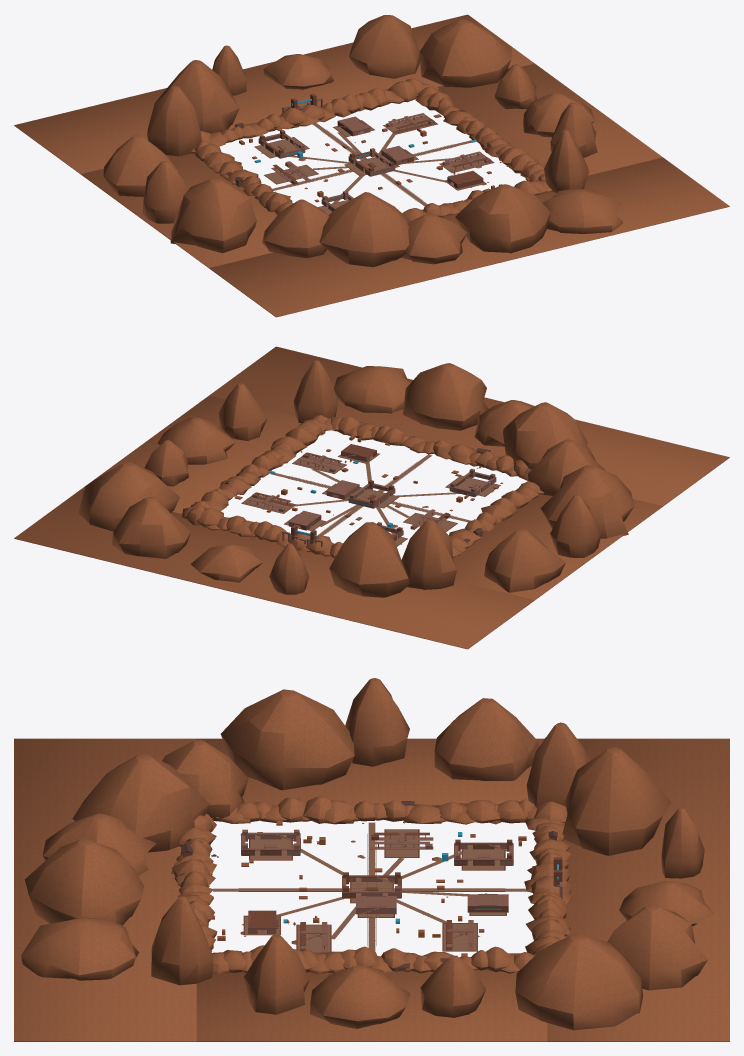
Rendered from kyokoku-lod1.glb.
3 views of the same model, one above another, from view 1: azimuth 30°, elevation 25°; view 2: azimuth 150°, elevation 25°; view 3: azimuth 270°, elevation 25° (orthographic). The views are drawn at different scales.
Visible parts, largest first — view 1: HB_kyokoku_LOD1_terrain, HB_kyokoku_LOD1_road, HB_kyokoku_LOD1_wall, HB_kyokoku_LOD1_wall_alt, HB_kyokoku_LOD1_obstacle; view 2: HB_kyokoku_LOD1_terrain, HB_kyokoku_LOD1_road, HB_kyokoku_LOD1_wall, HB_kyokoku_LOD1_wall_alt, HB_kyokoku_LOD1_obstacle; view 3: HB_kyokoku_LOD1_terrain, HB_kyokoku_LOD1_road, HB_kyokoku_LOD1_wall, HB_kyokoku_LOD1_wall_alt, HB_kyokoku_LOD1_obstacle.
Boxes of the visible parts, left/top/right/bottom form: HB_kyokoku_LOD1_terrain: left=14, top=14, right=729, bottom=317; HB_kyokoku_LOD1_road: left=255, top=115, right=493, bottom=214; HB_kyokoku_LOD1_wall: left=258, top=97, right=491, bottom=211; HB_kyokoku_LOD1_wall_alt: left=228, top=93, right=494, bottom=214; HB_kyokoku_LOD1_obstacle: left=239, top=114, right=529, bottom=215; HB_kyokoku_LOD1_terrain: left=14, top=346, right=729, bottom=649; HB_kyokoku_LOD1_road: left=241, top=453, right=500, bottom=546; HB_kyokoku_LOD1_wall: left=244, top=445, right=496, bottom=546; HB_kyokoku_LOD1_wall_alt: left=225, top=444, right=500, bottom=546; HB_kyokoku_LOD1_obstacle: left=234, top=431, right=503, bottom=525; HB_kyokoku_LOD1_terrain: left=14, top=678, right=729, bottom=1041; HB_kyokoku_LOD1_road: left=212, top=822, right=526, bottom=952; HB_kyokoku_LOD1_wall: left=241, top=829, right=562, bottom=952; HB_kyokoku_LOD1_wall_alt: left=182, top=804, right=562, bottom=971; HB_kyokoku_LOD1_obstacle: left=211, top=820, right=534, bottom=956.
Size of the model in its own units: 669 by 85.68 by 666.
Materials: 9 (8 with a texture image).
